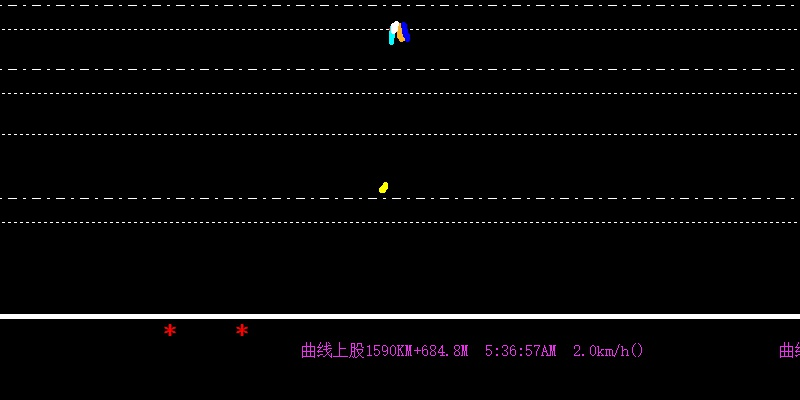face_2: (383, 16, 413, 55)
star: (160, 321, 182, 339), (234, 323, 249, 340)
